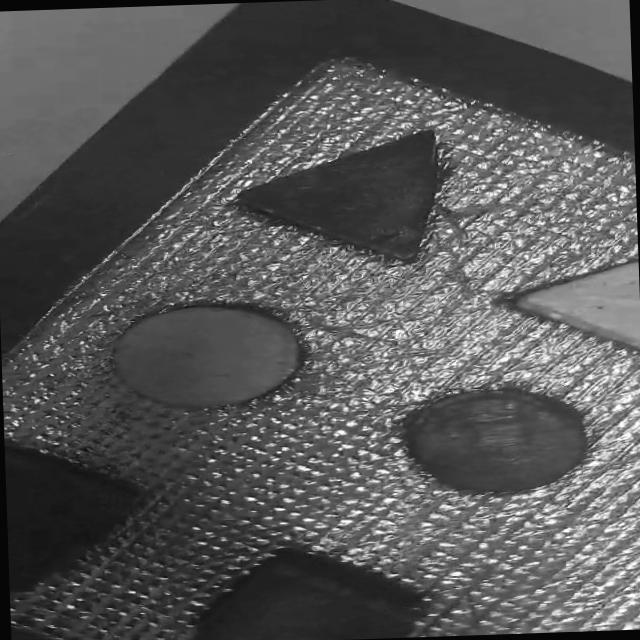btriangle: (196, 108, 513, 274)
rcircle: (373, 378, 611, 507)
ycircle: (88, 286, 315, 422)
